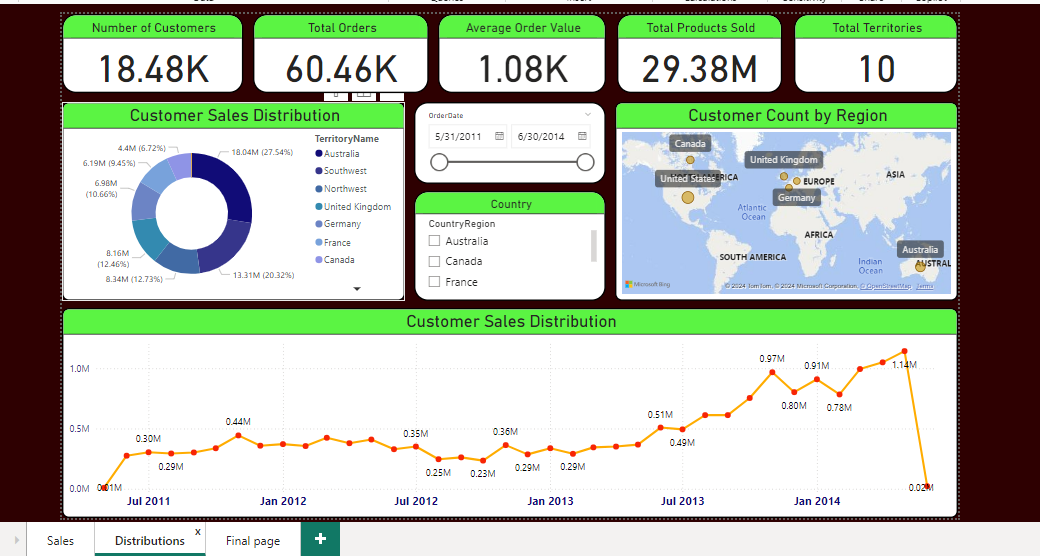

The page's visual inventory and layout, read from the dashboard file:
{"tool":"powerbi","page":{"name":"Distributions","canvas":[1280,720],"ordinal":1},"visuals":[{"type":"map","title":"Customer Count by Region","fields":{"Category":["Query1.CountryRegion"],"Size":["CountNonNull(Query1.CustomerID)"]},"box":[790,125.7,490,284.3],"z":0},{"type":"donutChart","title":"Customer Sales Distribution","fields":{"Y":["Sum(Query1.TotalDue)"],"Category":["Query1.TerritoryName"]},"box":[0,125.7,490,284.3],"z":1000},{"type":"lineChart","title":"Customer Sales Distribution","fields":{"Y":["Sum(Query1.StandardCost)"],"Category":["Query1.OrderDate.Variation.Date Hierarchy.Year","Query1.OrderDate.Variation.Date Hierarchy.Quarter","Query1.OrderDate.Variation.Date Hierarchy.Month","Query1.OrderDate.Variation.Date Hierarchy.Day"]},"box":[0,420,1280,300],"z":2000},{"type":"slicer","title":"Total Sales","fields":{"Values":["Query1.OrderDate"]},"box":[502.9,125.7,274.3,117.1],"z":3000},{"type":"card","title":"Number of Customers","fields":{"Values":["Count(Query1.CustomerID)"]},"box":[0,0,258.6,112.9],"z":4000},{"type":"card","title":"Total Orders","fields":{"Values":["CountNonNull(Query1.SalesOrderID)"]},"box":[272.9,0,251.4,112.9],"z":5000},{"type":"card","title":"Average Order Value","fields":{"Values":["Avg(Query1.TotalDue)"]},"box":[537.1,0,240,112.9],"z":6000},{"type":"card","title":"Total Products Sold","fields":{"Values":["Sum(Query1.LineTotal)"]},"box":[792.9,0,235.7,112.9],"z":7000},{"type":"card","title":"Total Territories","fields":{"Values":["Count(Query1.TerritoryName)"]},"box":[1045.7,0,234.3,112.9],"z":8000},{"type":"slicer","title":"Country","fields":{"Values":["Query1.CountryRegion"]},"box":[502.9,252.9,274.3,157.1],"z":9000}]}

Visuals, with their boxes on the page's 1280x720 design canvas (x1, y1, x2, y2). These are canvas units, not pixel positions in the 1040x556 screenshot, which may show the page scaled, cropped or inside an application window:
"Customer Count by Region" map: l=790, t=126, r=1280, b=410
"Customer Sales Distribution" donutChart: l=0, t=126, r=490, b=410
"Customer Sales Distribution" lineChart: l=0, t=420, r=1280, b=720
"Total Sales" slicer: l=503, t=126, r=777, b=243
"Number of Customers" card: l=0, t=0, r=259, b=113
"Total Orders" card: l=273, t=0, r=524, b=113
"Average Order Value" card: l=537, t=0, r=777, b=113
"Total Products Sold" card: l=793, t=0, r=1029, b=113
"Total Territories" card: l=1046, t=0, r=1280, b=113
"Country" slicer: l=503, t=253, r=777, b=410
